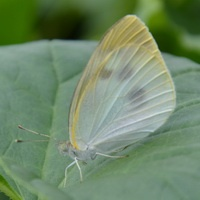insect: (58, 15, 175, 183)
